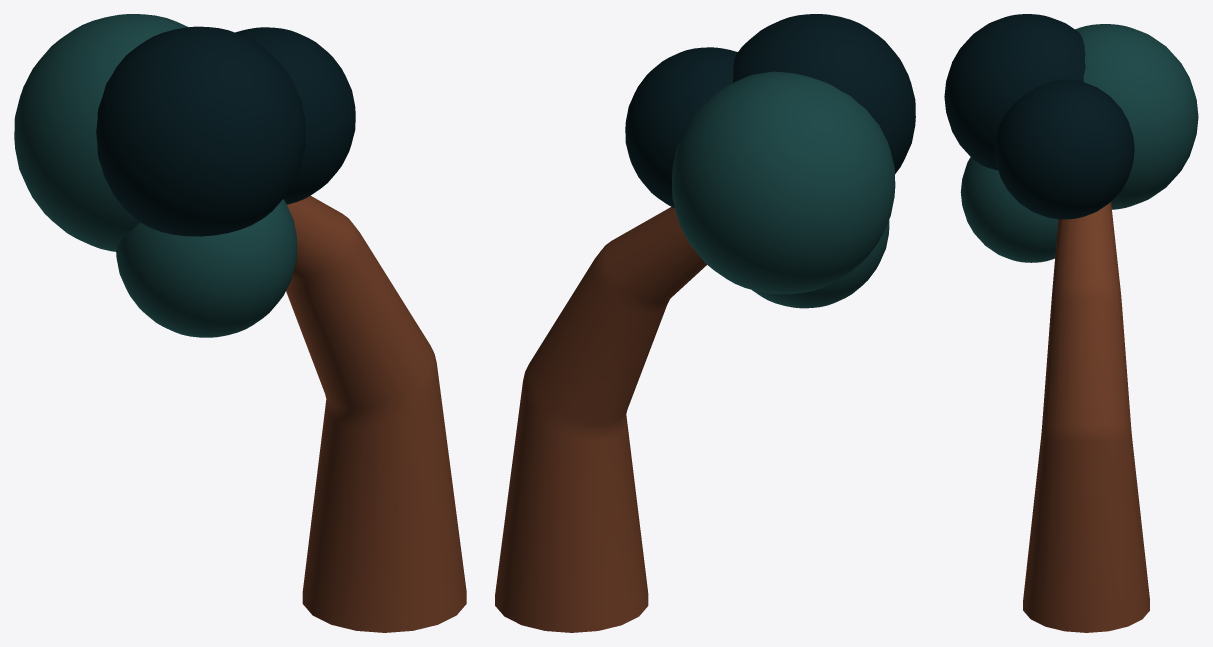
The model's file is vegetation_01.fbx.
3 views of the same model, side by side, from view 1: azimuth 30°, elevation 25°; view 2: azimuth 150°, elevation 25°; view 3: azimuth 270°, elevation 25° (orthographic). The views are drawn at different scales.
Parts seen in each view (by area): view 1: Cylinder009, Sphere038, Sphere036, Sphere039, Sphere037; view 2: Cylinder009, Sphere036, Sphere038, Sphere037, Sphere039; view 3: Cylinder009, Sphere037, Sphere036, Sphere038, Sphere039.
Part boxes in pixels (bbox=[...]): Cylinder009: bbox=[286, 195, 466, 632]; Sphere038: bbox=[96, 26, 305, 236]; Sphere036: bbox=[14, 14, 188, 251]; Sphere039: bbox=[116, 199, 297, 337]; Sphere037: bbox=[235, 27, 355, 204]; Cylinder009: bbox=[495, 207, 706, 632]; Sphere036: bbox=[672, 71, 895, 294]; Sphere038: bbox=[733, 14, 915, 173]; Sphere037: bbox=[625, 47, 737, 208]; Sphere039: bbox=[752, 220, 889, 308]; Cylinder009: bbox=[1023, 202, 1149, 632]; Sphere037: bbox=[994, 80, 1134, 219]; Sphere036: bbox=[1075, 24, 1198, 209]; Sphere038: bbox=[944, 14, 1085, 170]; Sphere039: bbox=[960, 157, 1058, 262].
Size of the model in its own units: 173 by 256 by 118.
